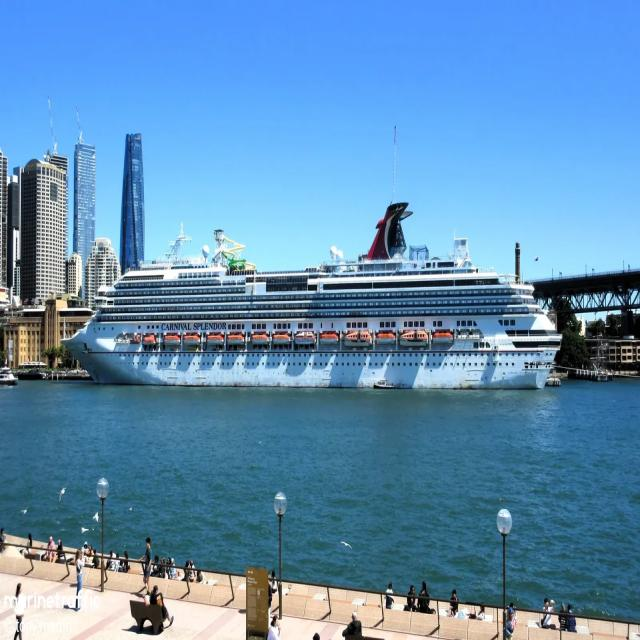Cruise: (68, 203, 560, 389)
